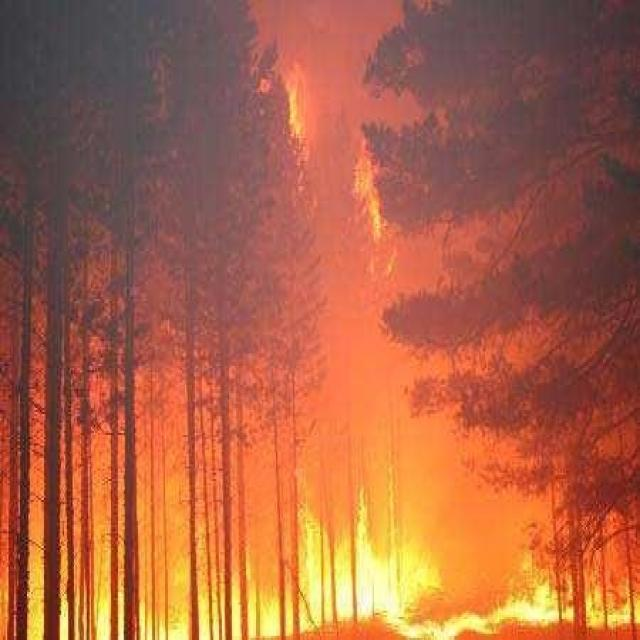fire: (26, 511, 633, 633), (265, 51, 407, 264)
